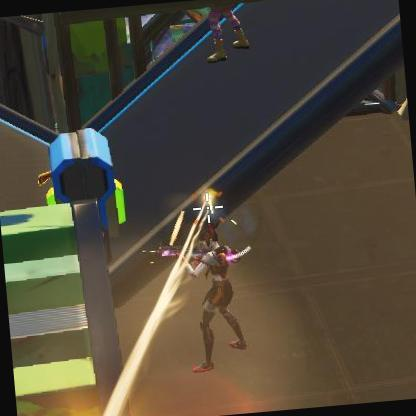person: (186, 244, 248, 364)
